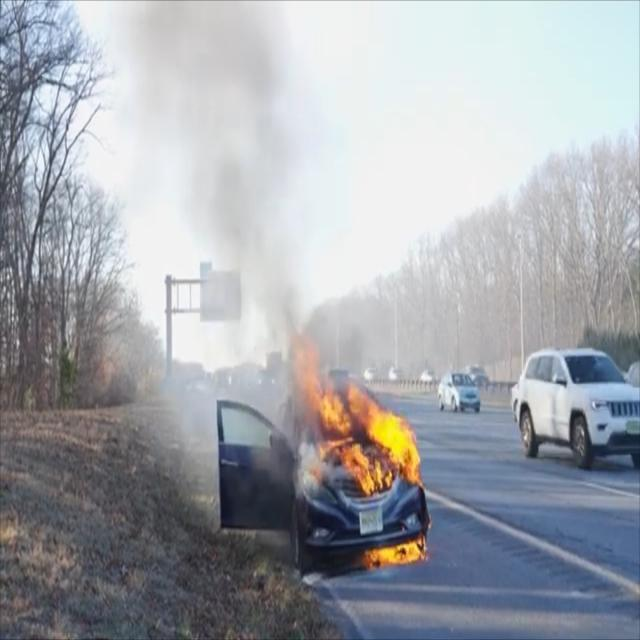fire: (294, 328, 430, 568)
